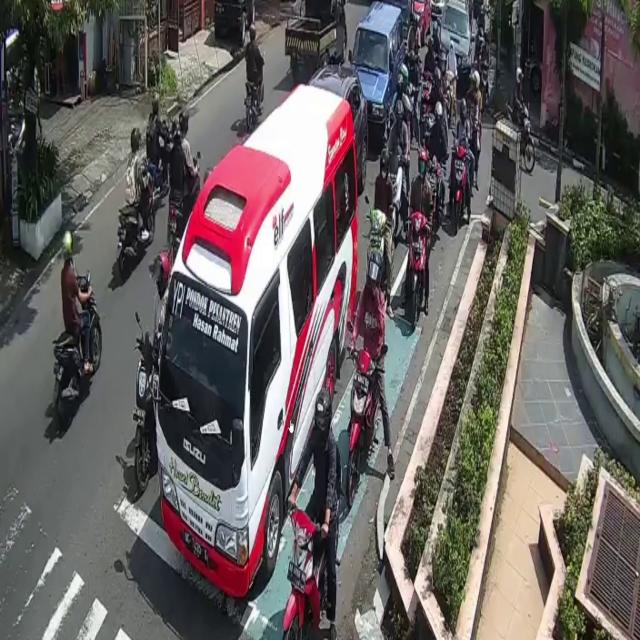bus: (51, 272, 102, 432), (285, 501, 332, 640), (349, 347, 380, 502), (118, 167, 156, 280), (134, 344, 159, 492), (363, 209, 390, 312), (503, 100, 536, 179), (240, 51, 266, 136), (409, 216, 427, 329), (452, 143, 468, 227)
car: (157, 82, 358, 594)
motorcycle: (351, 0, 407, 144), (312, 62, 370, 184), (286, 0, 348, 66), (438, 0, 474, 94)
